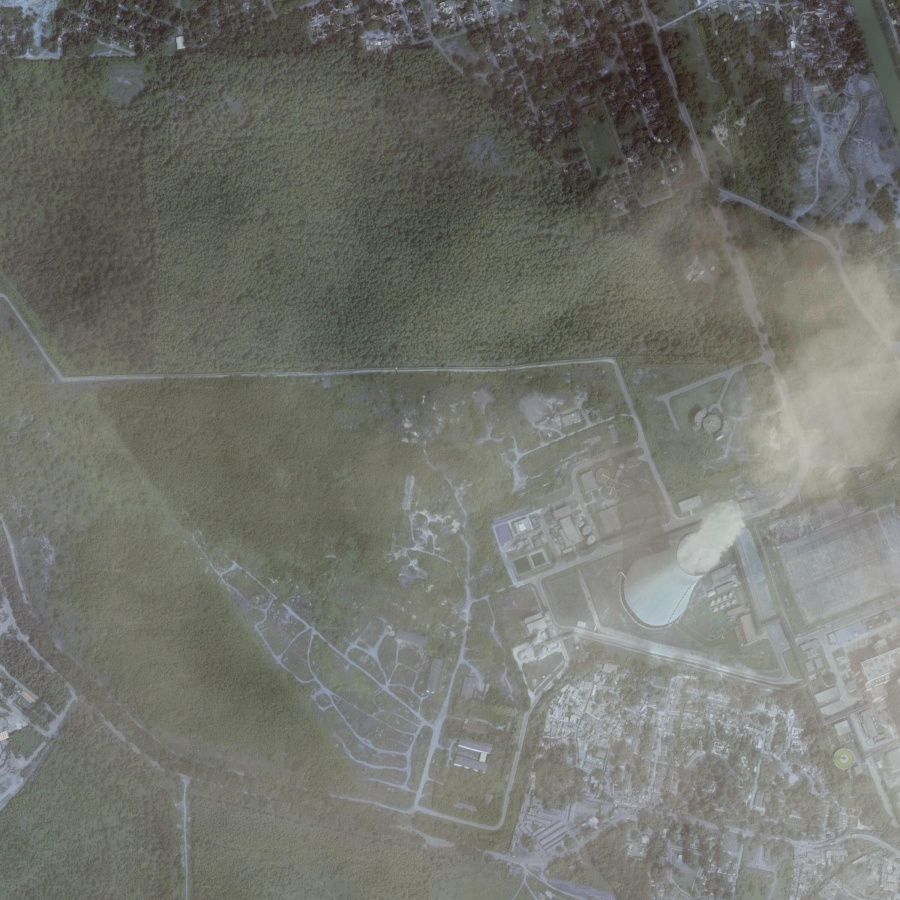PowerPlant: (613, 461, 768, 672)
